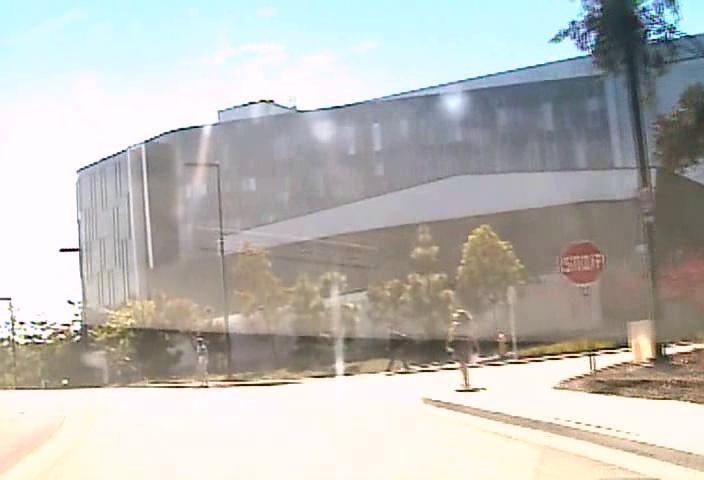stop: (559, 239, 607, 286)
